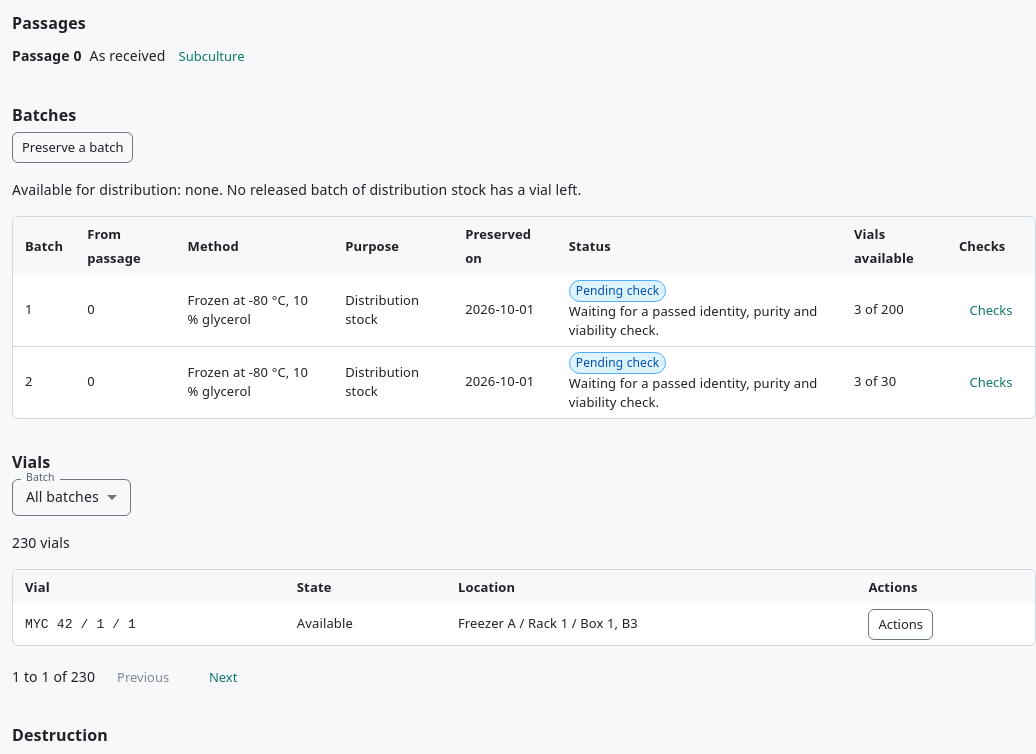
Test: StrainMaterial › narrows the vials to one batch, from the first page, and says how many there are in all
Expected: the text "230 vials" is shown, left=12, top=533, right=70, bottom=552
Select "Batch 2" in the dropdown labelled "Batch" at (72, 497), box left=12, top=479, right=131, bottom=516
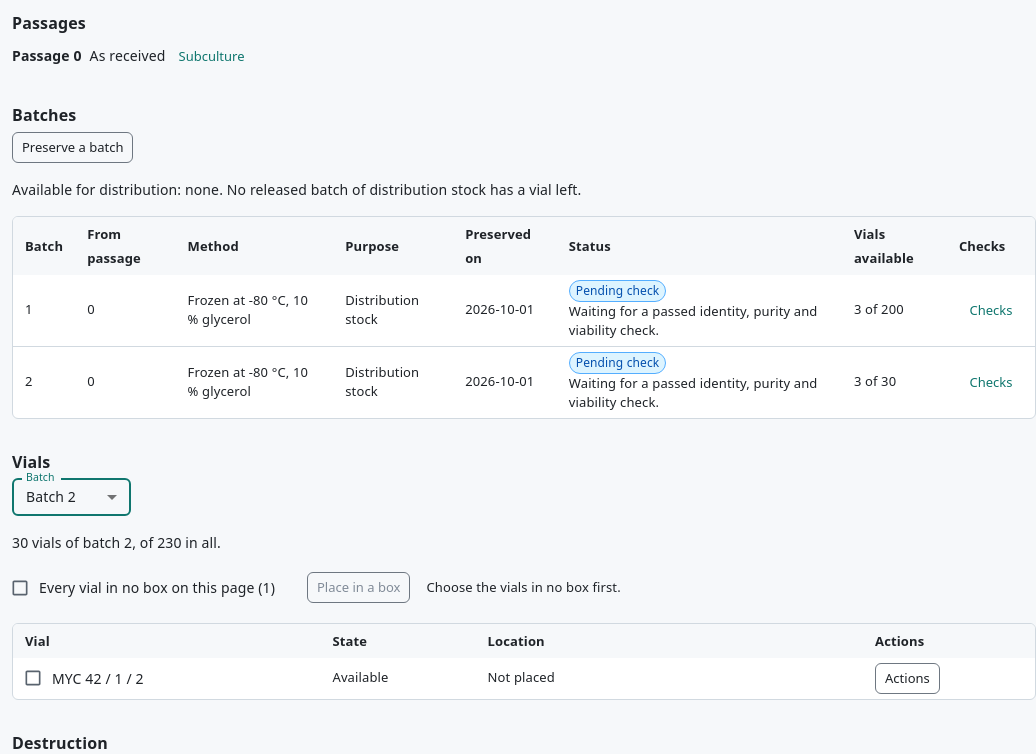
Now the text "30 vials of batch 2, of 230 in all." is shown, box left=12, top=533, right=221, bottom=552
